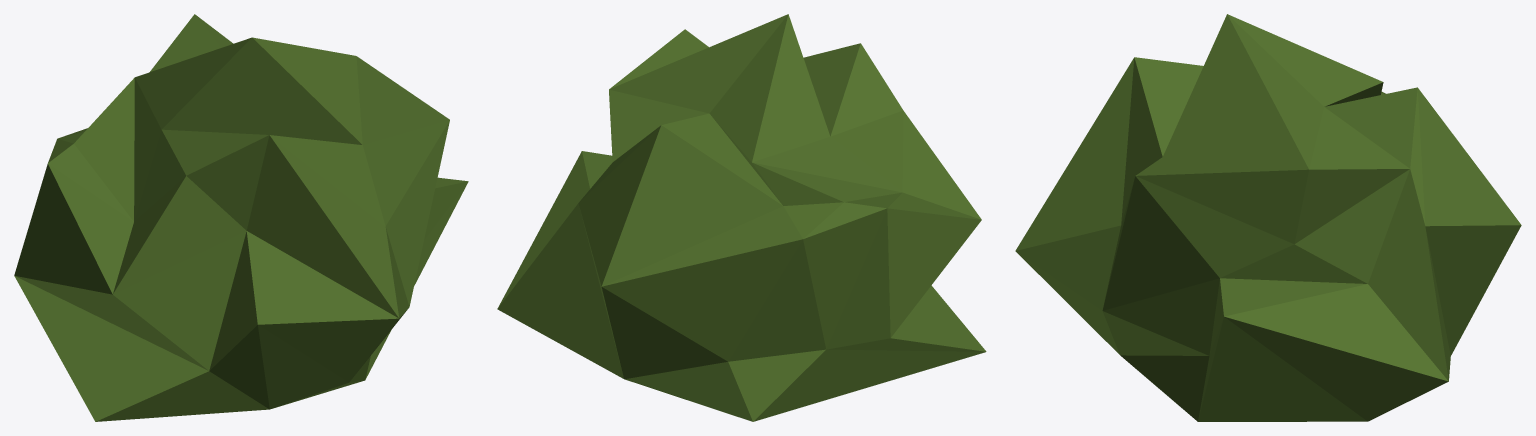
File: bush4.fbx
The picture shows the model from 3 angles, left to right: view 1: azimuth 30°, elevation 25°; view 2: azimuth 150°, elevation 25°; view 3: azimuth 270°, elevation 25°; orthographic projection. The views are drawn at different scales.
Parts seen in each view (by area): view 1: Bush; view 2: Bush; view 3: Bush.
Part boxes in pixels (x1=…): Bush: x1=14, y1=14, x2=468, y2=421; Bush: x1=497, y1=14, x2=986, y2=421; Bush: x1=1015, y1=14, x2=1521, y2=421.
Bounding box in the file's own units: 162 × 139 × 178.
